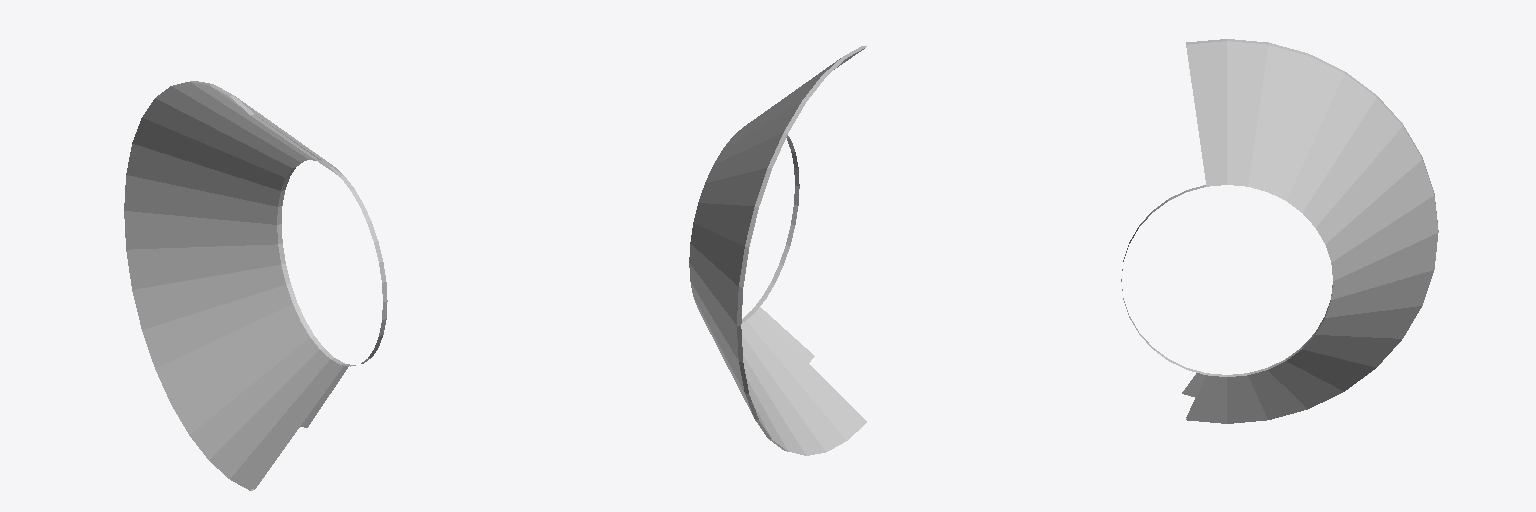
The model's file is RearHubGuardsLeftDrive.obj.
3 renders of one model, left to right at view 1: azimuth 30°, elevation 25°; view 2: azimuth 150°, elevation 25°; view 3: azimuth 270°, elevation 25°, orthographic.
Visible parts, largest first — view 1: LHDriveSide; view 2: LHDriveSide; view 3: LHDriveSide.
Boxes of the visible parts, box(x1,y1,x2,y2) form: LHDriveSide: box(124, 81, 387, 490); LHDriveSide: box(689, 46, 866, 455); LHDriveSide: box(1121, 39, 1438, 423).
Size of the model in its own units: 0.019 by 0.066 by 0.0495.